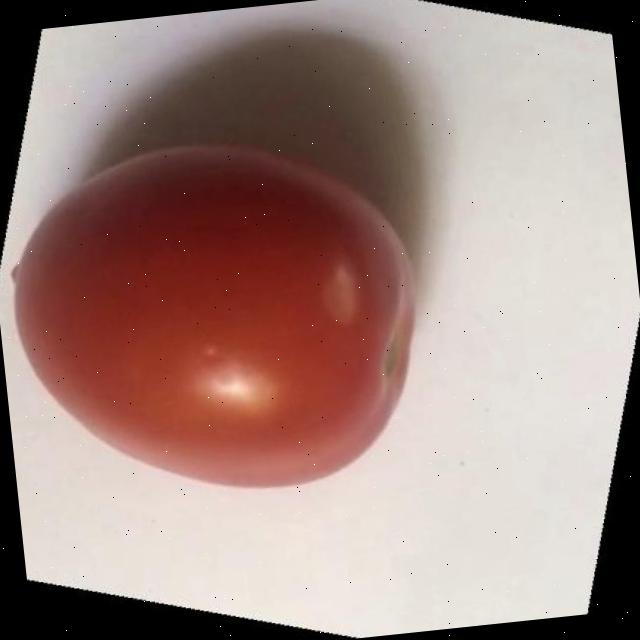tomato: (23, 111, 464, 522)
